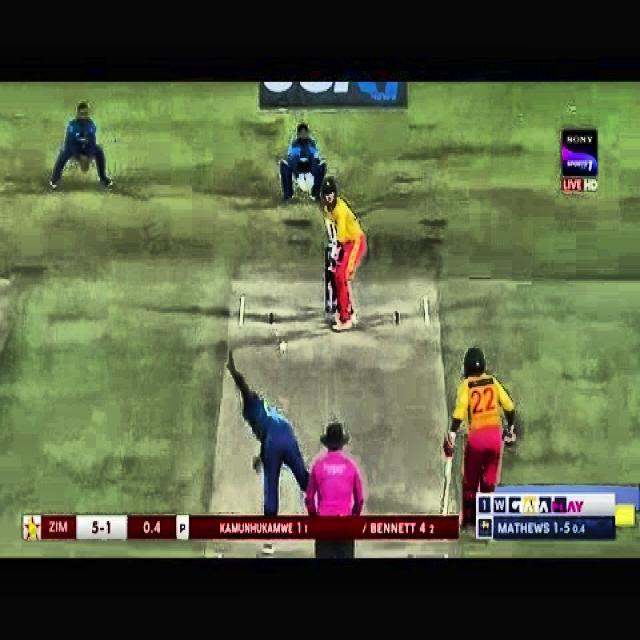Left-stump: (326, 271, 329, 312)
Middle-stump: (333, 291, 336, 311)
